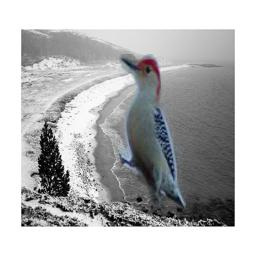Woodpecker: (119, 54, 186, 211)
